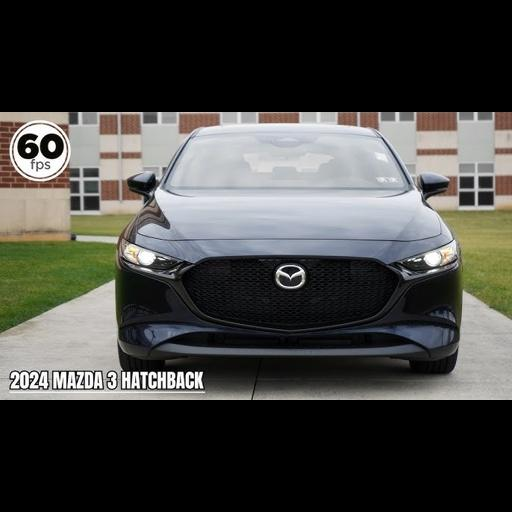hatchback: (115, 124, 460, 373)
